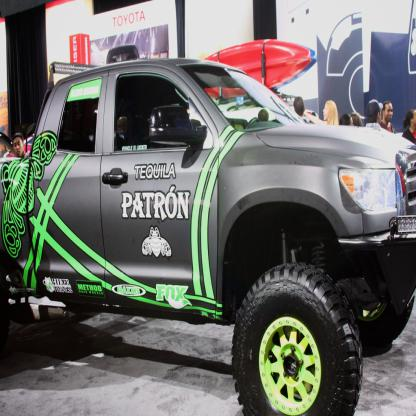Truck: (0, 57, 415, 415)
